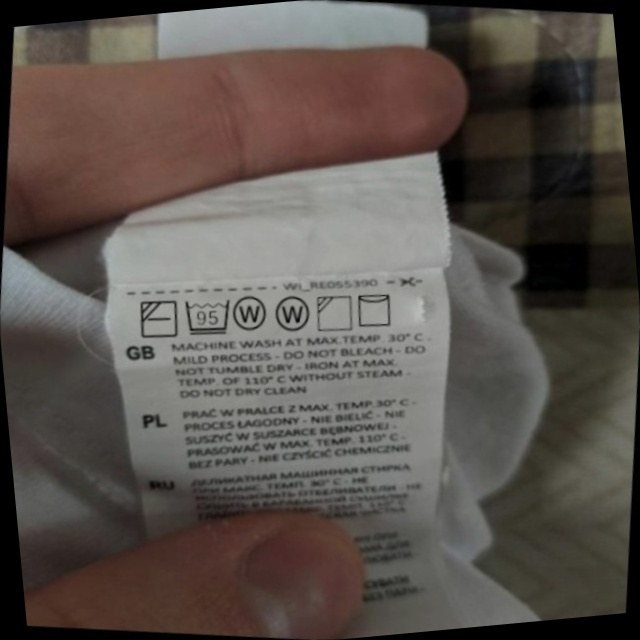95C: (177, 289, 238, 343)
dry_flat_in_shade: (132, 291, 185, 346)
line_dry: (349, 284, 401, 335)
shade_dry: (309, 287, 360, 339)
wet_clean: (268, 289, 317, 340), (227, 286, 275, 338)
